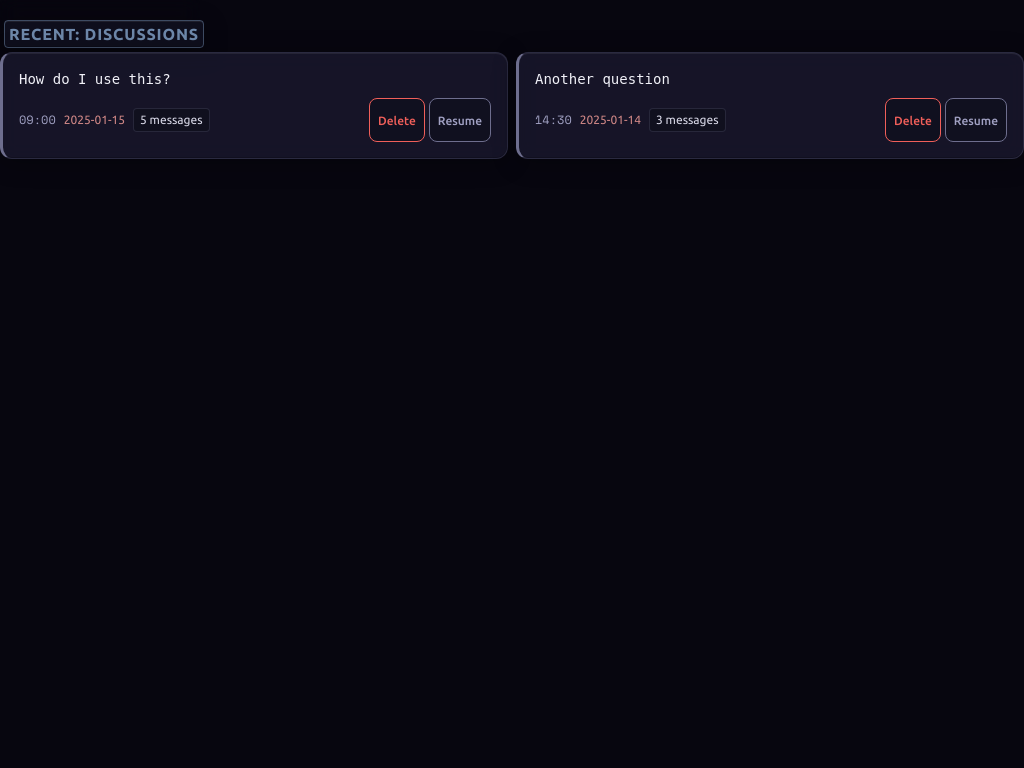
Test: RecentActivity › Delete button behavior › closes confirmation dialog when Cancel is clicked
// Open the dialog
Click the button with aria-label "delete discussion" at (397, 120), box [369,98,425,142]
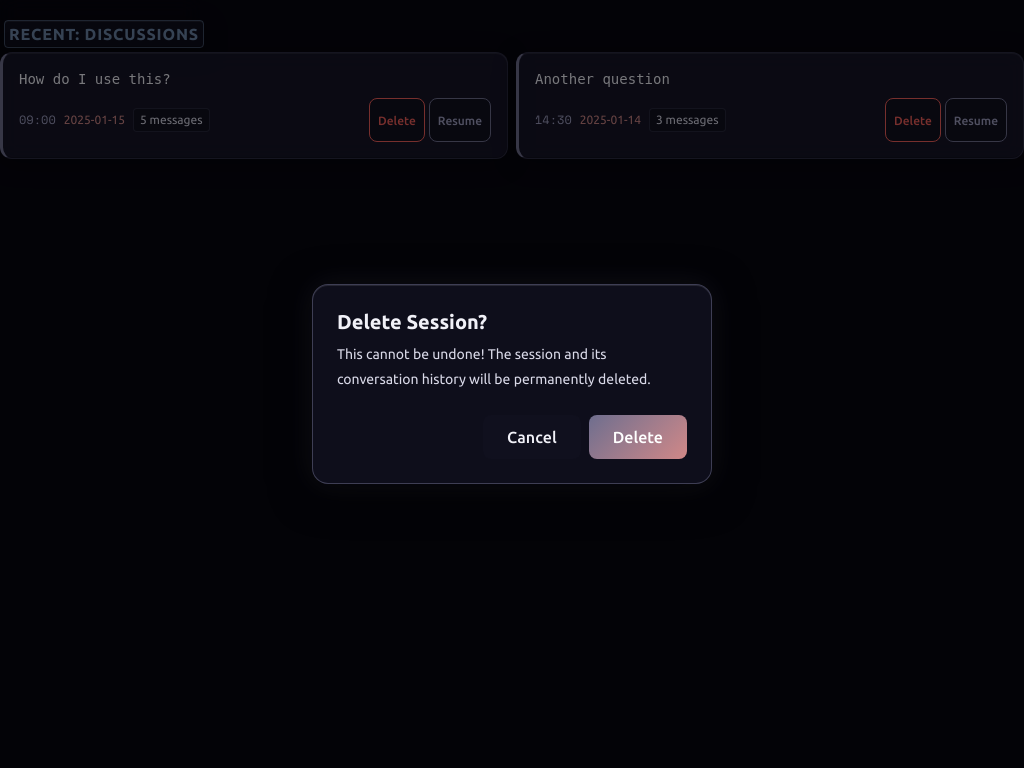
Expected: the dialog is shown, [312,284,712,484]
// Click Cancel
Click the button "Cancel" at (532, 437), box [483,415,581,459]
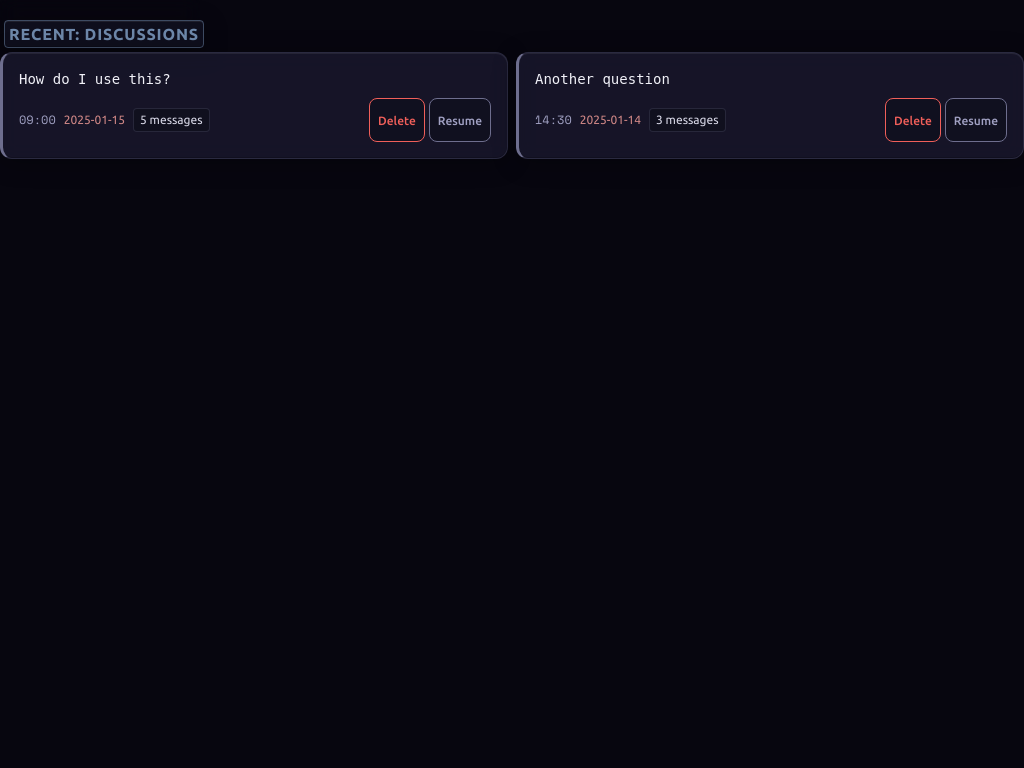
Expected: the dialog is gone
